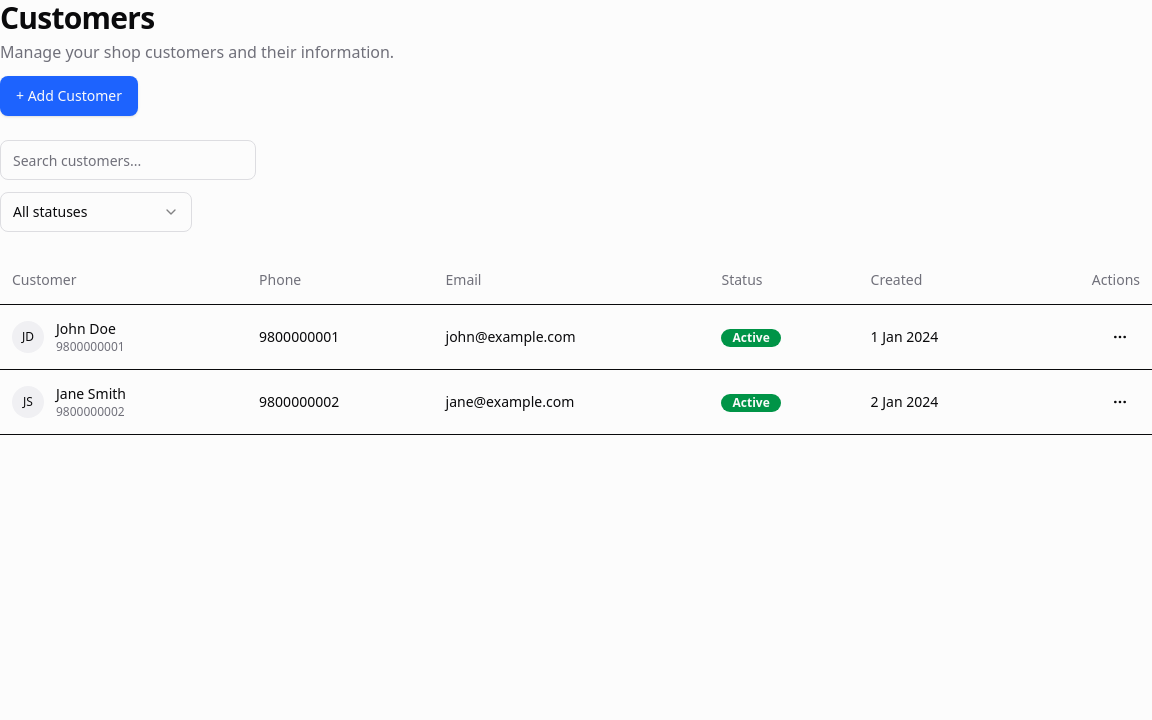
Test case: CustomersPage › Customer form opens in create mode
Click the button "+ Add Customer".
click(69, 96)  # box [0,76,138,116]
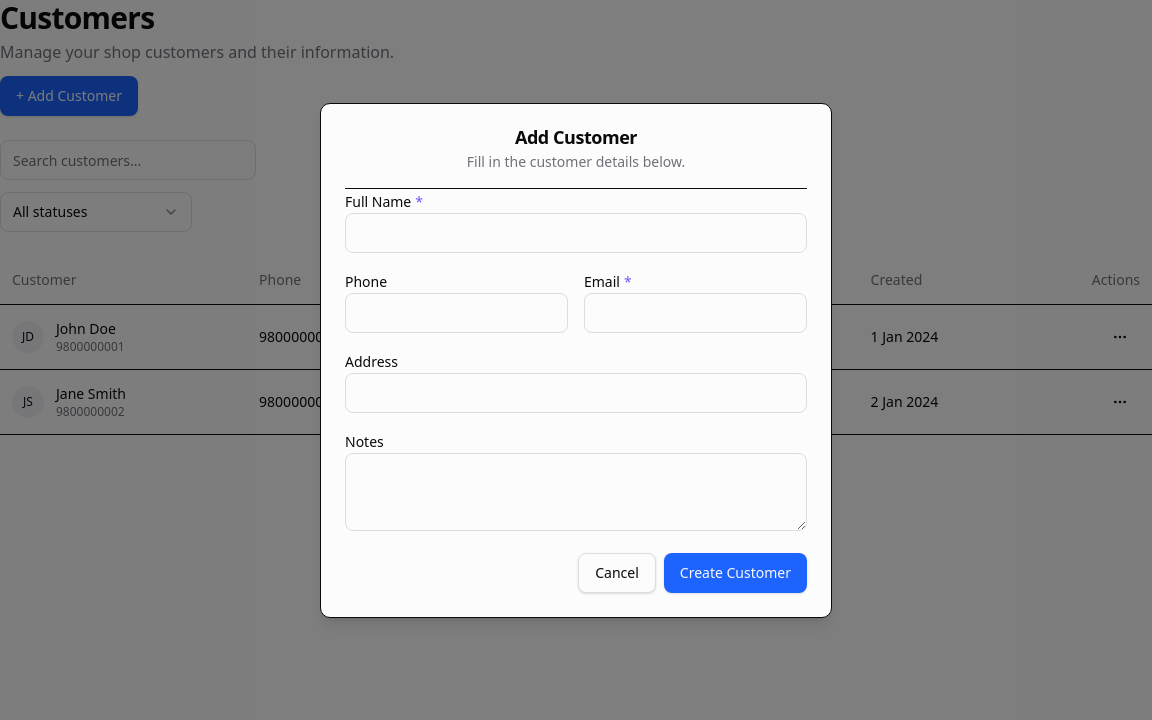
Expected: the heading "Add Customer" is shown, [515,124,637,148]
Expected: the text "Fill in the customer details below." is shown, [467,152,685,170]
